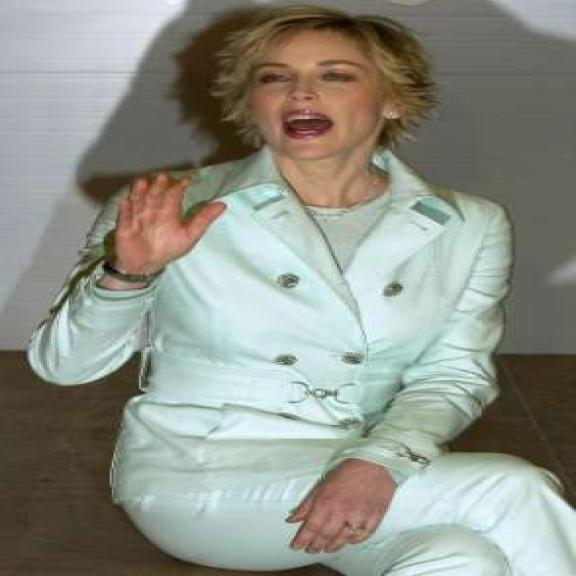face: (248, 31, 410, 163)
